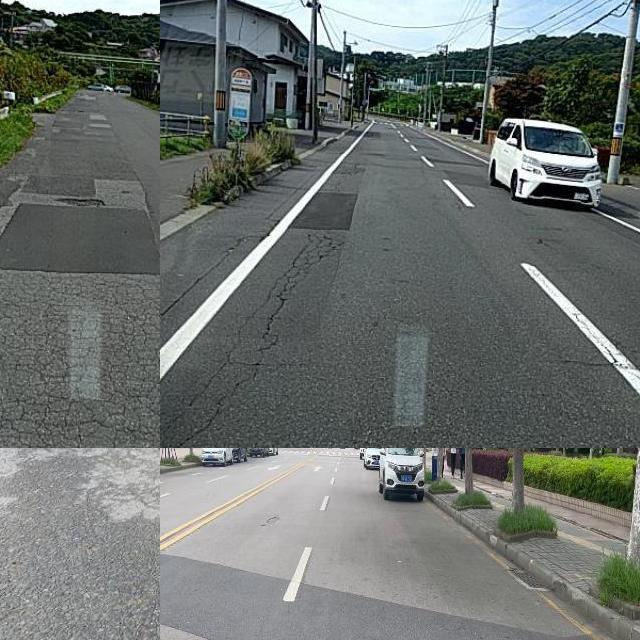Sambungan: (160, 551, 573, 640), (0, 203, 160, 275), (281, 188, 359, 233)
